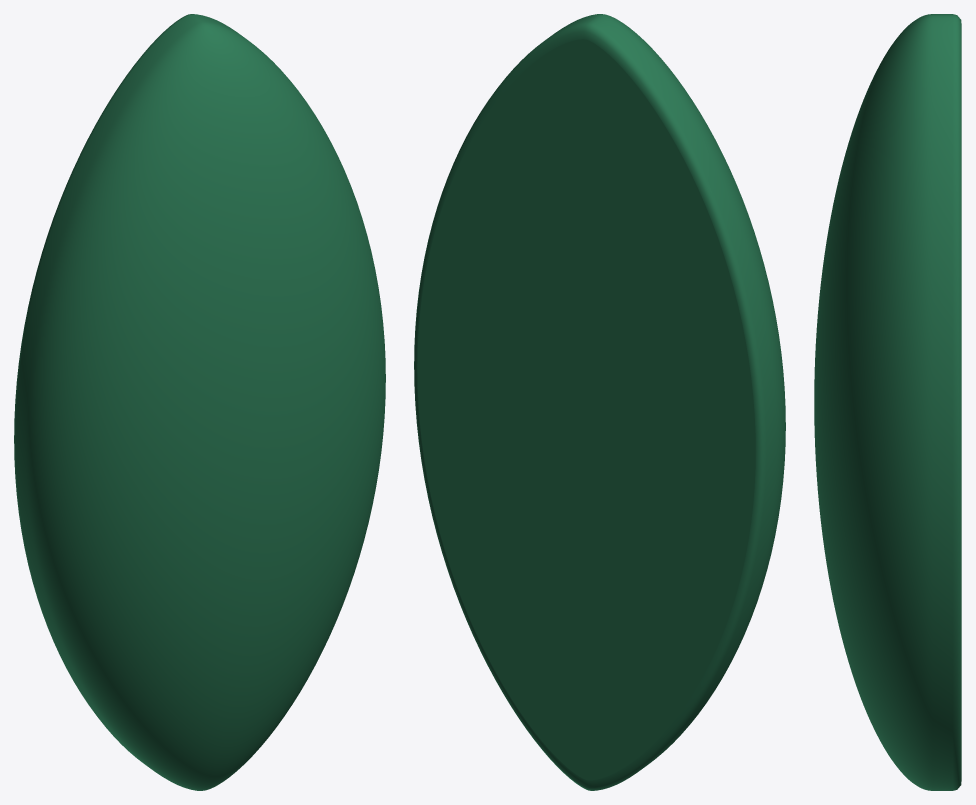
Rendered from marquise.glb.
3 renders of one model, left to right at view 1: azimuth 30°, elevation 25°; view 2: azimuth 150°, elevation 25°; view 3: azimuth 270°, elevation 25°, orthographic.
Parts seen in each view (by area): view 1: Marquise Cabochon 23x11x4mm; view 2: Marquise Cabochon 23x11x4mm; view 3: Marquise Cabochon 23x11x4mm.
Boxes of the visible parts, bbox=[...] form: Marquise Cabochon 23x11x4mm: bbox=[14, 14, 385, 790]; Marquise Cabochon 23x11x4mm: bbox=[414, 14, 785, 790]; Marquise Cabochon 23x11x4mm: bbox=[814, 14, 961, 790].
Bounding box in the file's own units: 0.011 × 0.023 × 0.00398.
